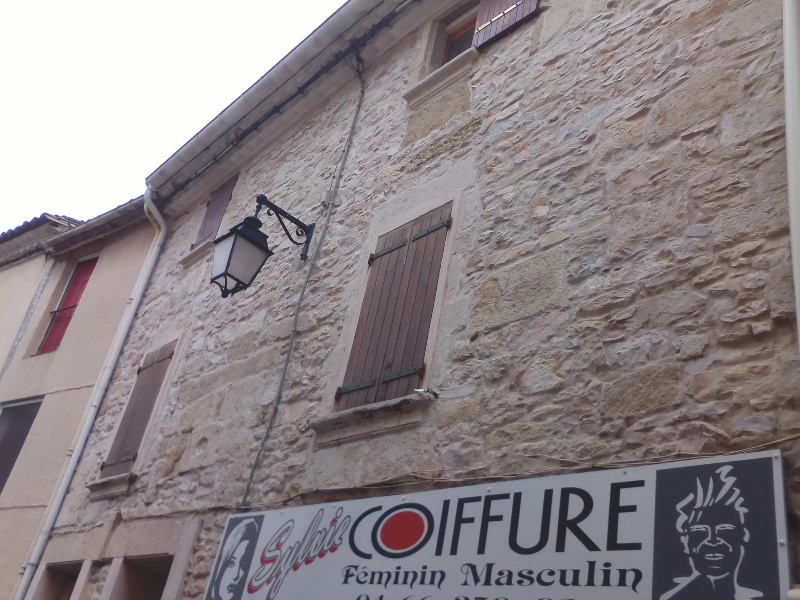text: (273, 501, 288, 600), (289, 501, 304, 600), (305, 501, 320, 600), (321, 501, 336, 600), (337, 501, 352, 600), (369, 477, 384, 561), (385, 477, 400, 561), (401, 477, 416, 561), (417, 477, 432, 561), (433, 477, 448, 561), (449, 477, 464, 561), (465, 477, 480, 561), (481, 477, 496, 561), (497, 477, 512, 561), (513, 477, 528, 561), (529, 477, 544, 561), (545, 477, 560, 561), (561, 477, 576, 561), (577, 477, 592, 561), (593, 477, 608, 561), (609, 477, 624, 561), (625, 477, 640, 561), (353, 501, 361, 600), (641, 477, 650, 561), (265, 501, 272, 600), (361, 477, 368, 561), (465, 560, 480, 594), (481, 560, 496, 594), (497, 560, 512, 594), (513, 560, 528, 594), (529, 560, 544, 594), (545, 560, 560, 594), (561, 560, 576, 594), (577, 560, 592, 594), (593, 560, 608, 594), (609, 560, 624, 594), (625, 560, 640, 594), (433, 563, 449, 590), (353, 563, 368, 590), (369, 563, 384, 590), (385, 563, 400, 590), (401, 563, 416, 590), (417, 563, 432, 590), (641, 560, 648, 594), (344, 563, 352, 590), (461, 560, 464, 594)
